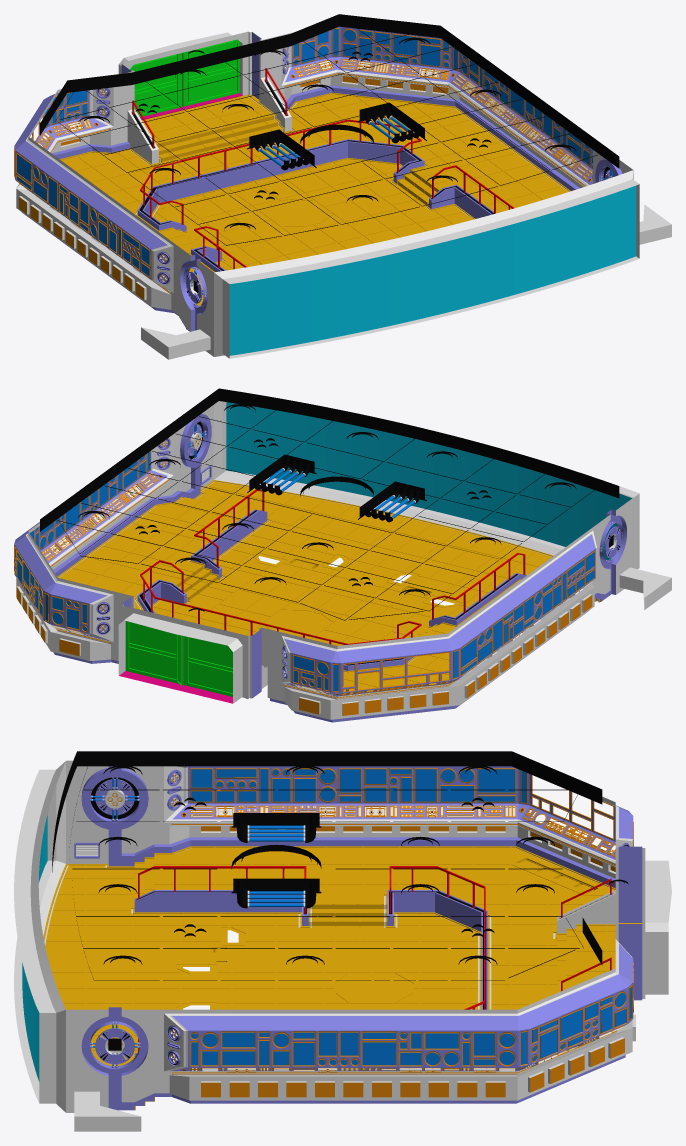
The model's file is BridgeV73.fbx.
The picture shows the model from 3 angles, top to bottom: view 1: azimuth 30°, elevation 25°; view 2: azimuth 150°, elevation 25°; view 3: azimuth 270°, elevation 25°; orthographic projection. The views are drawn at different scales.
Parts seen in each view (by area): view 1: Bridge, BridgeDoor; view 2: Bridge, BridgeDoor, BridgeFloorLightStrip; view 3: Bridge, BridgeFloorLightStrip, BridgeWallPortLightStrip.
Part boxes in pixels (x1,y1,x2,y2): Bridge: [14, 14, 671, 359]; BridgeDoor: [130, 39, 239, 117]; Bridge: [14, 388, 671, 722]; BridgeDoor: [125, 621, 232, 696]; BridgeFloorLightStrip: [58, 481, 599, 663]; Bridge: [14, 751, 671, 1131]; BridgeFloorLightStrip: [44, 847, 613, 1009]; BridgeWallPortLightStrip: [172, 1030, 617, 1074].
Size of what is drawn, in the model's own units: 21.11 by 4.55 by 19.65.
